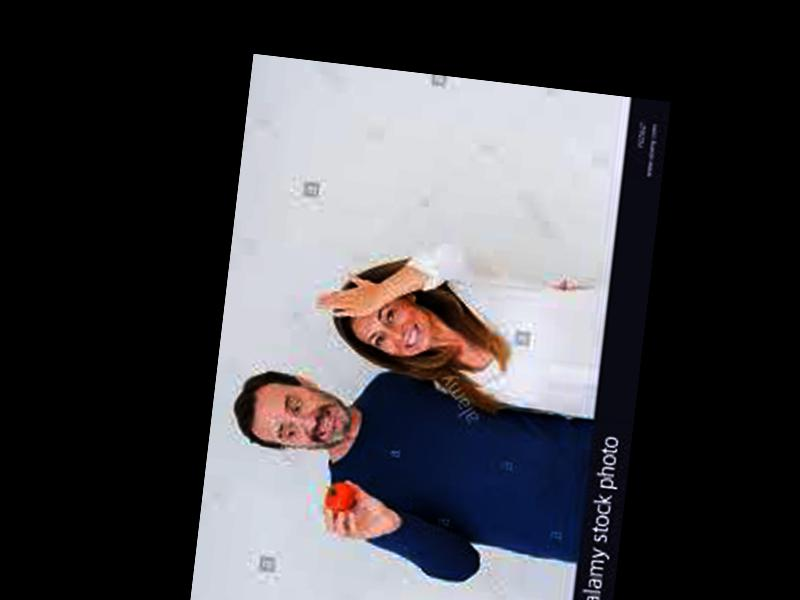Tomato: (321, 481, 355, 512)
